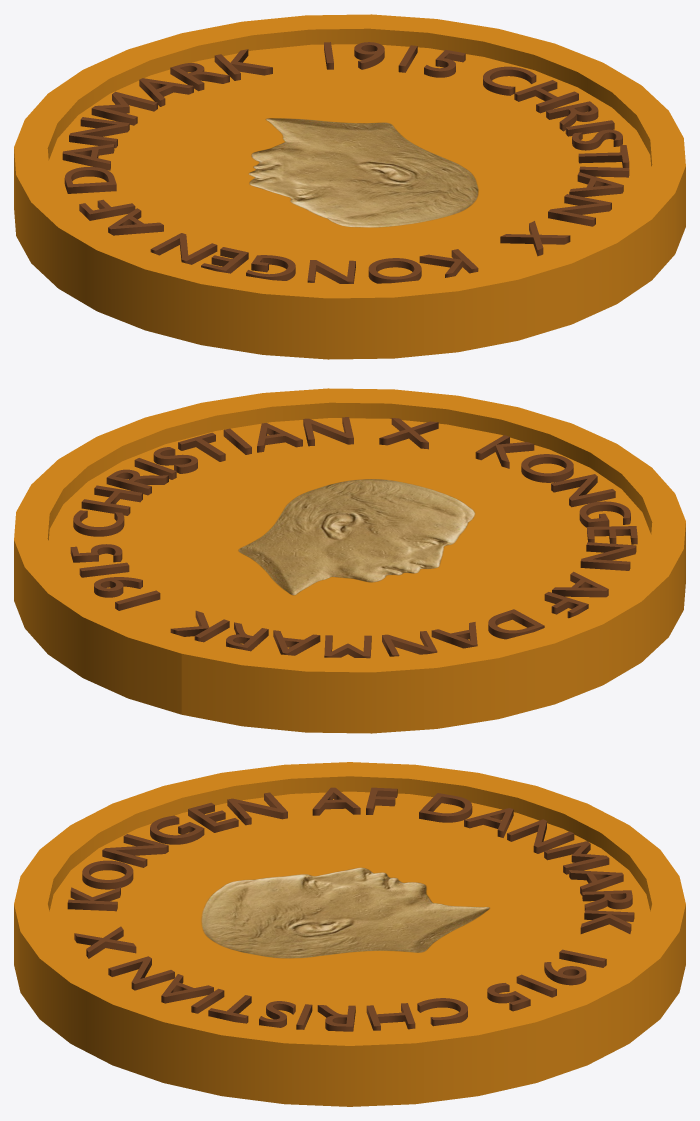
The model's file is Christian10.glb.
3 renders of one model, top to bottom at view 1: azimuth 30°, elevation 25°; view 2: azimuth 150°, elevation 25°; view 3: azimuth 270°, elevation 25°, orthographic.
Visible parts, largest first — view 1: Text; view 2: Text; view 3: Text.
Part boxes in pixels (x1,y1,x2,y2): Text: (14,14,685,359); Text: (14,388,685,733); Text: (14,762,685,1106).
Bounding box in the file's own units: 2 × 0.2 × 2.
3 materials, 1 textured.
